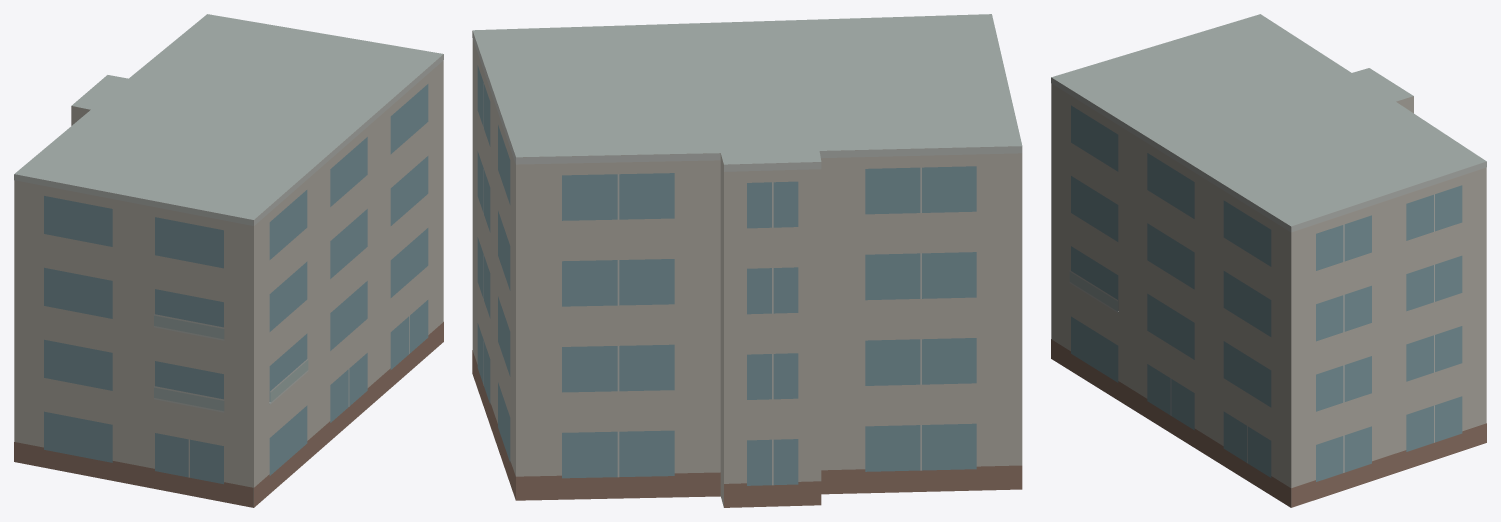
Rendered from survey-upis-32814698.glb.
3 views of the same model, side by side, from view 1: azimuth 30°, elevation 25°; view 2: azimuth 150°, elevation 25°; view 3: azimuth 270°, elevation 25° (orthographic). The views are drawn at different scales.
Visible parts, largest first — view 1: survey-upis-32814698.tmp; view 2: survey-upis-32814698.tmp; view 3: survey-upis-32814698.tmp.
Boxes of the visible parts, left/top/right/bottom form: survey-upis-32814698.tmp: left=14, top=14, right=443, bottom=507; survey-upis-32814698.tmp: left=472, top=14, right=1022, bottom=507; survey-upis-32814698.tmp: left=1051, top=14, right=1486, bottom=507.
Bounding box in the file's own units: 18.66 × 11.52 × 16.17.
